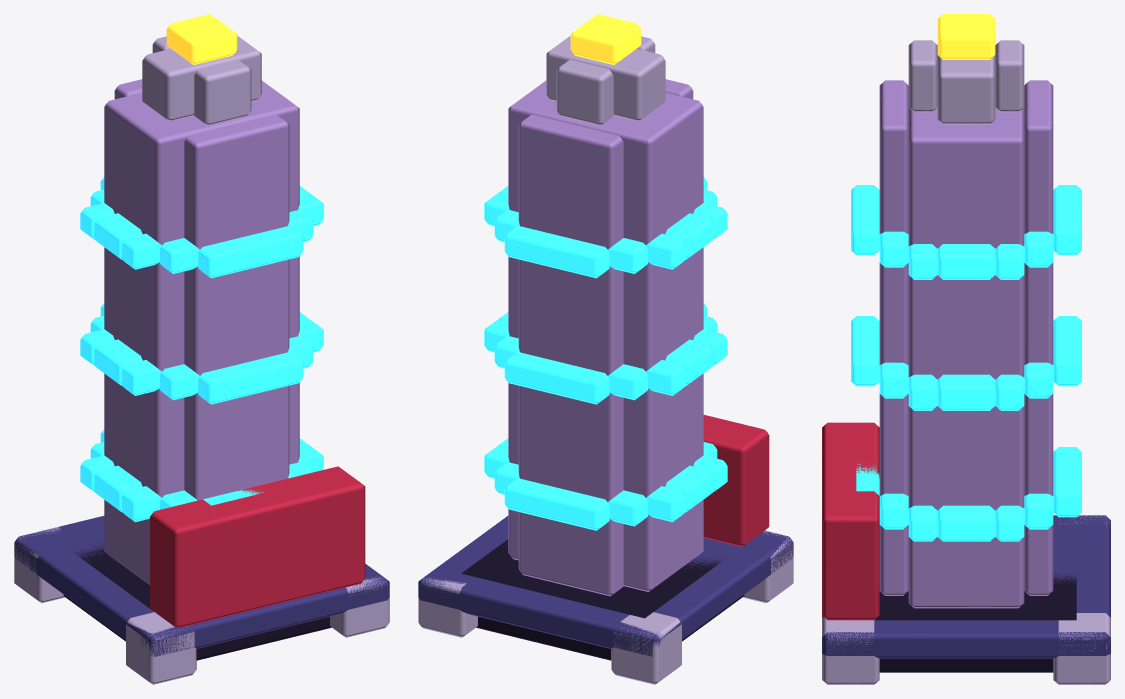
The model's file is capacitor.md.glb.
3 views of the same model, side by side, from view 1: azimuth 30°, elevation 25°; view 2: azimuth 150°, elevation 25°; view 3: azimuth 270°, elevation 25° (orthographic). The views are drawn at different scales.
Parts seen in each view (by area): view 1: capacitor.md; view 2: capacitor.md; view 3: capacitor.md.
Part boxes in pixels (left/top/right/bottom): capacitor.md: left=14, top=14, right=389, bottom=684; capacitor.md: left=418, top=14, right=793, bottom=684; capacitor.md: left=822, top=14, right=1110, bottom=684.
Bounding box in the file's own units: 0.625 × 1.44 × 0.625.
